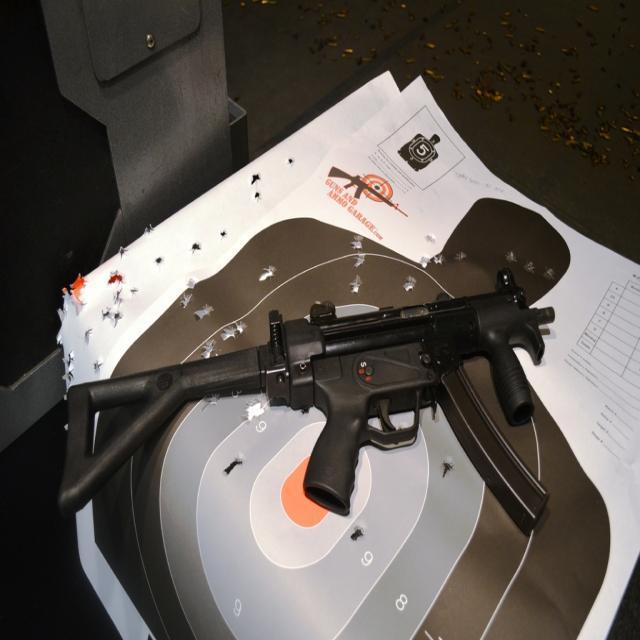Rifle: (60, 267, 554, 531)
